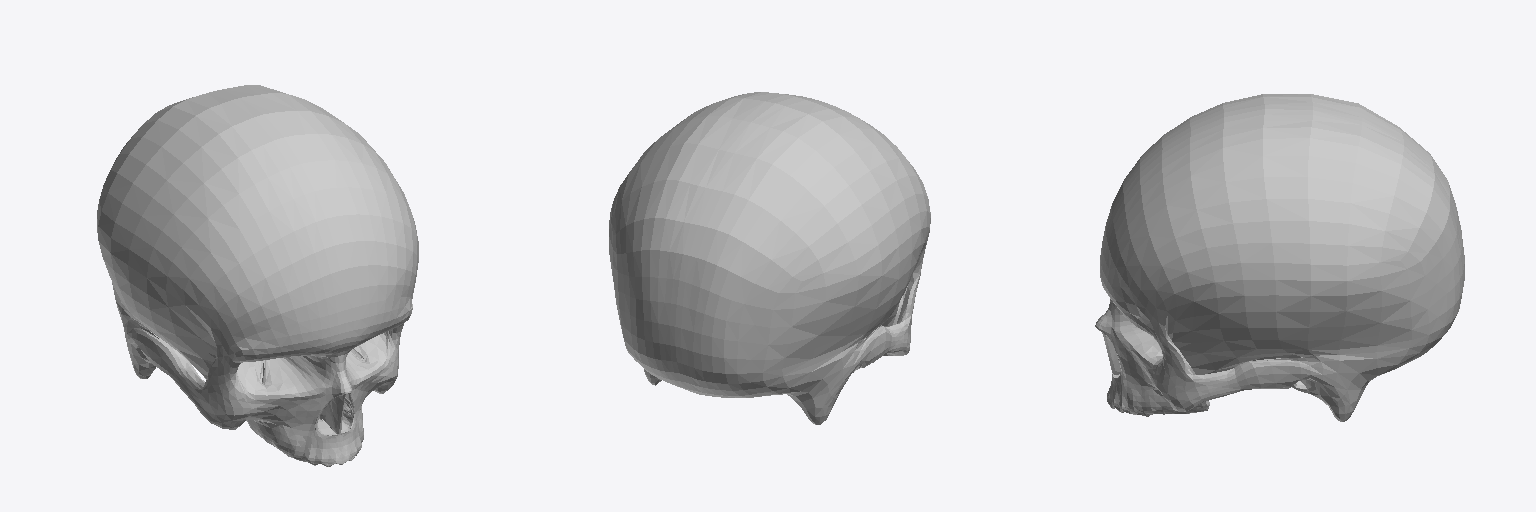
The model's file is Skull.obj.
3 views of the same model, side by side, from view 1: azimuth 30°, elevation 25°; view 2: azimuth 150°, elevation 25°; view 3: azimuth 270°, elevation 25° (orthographic).
Visible parts, largest first — view 1: Skull_Mesh group1; view 2: Skull_Mesh group1; view 3: Skull_Mesh group1.
Boxes of the visible parts, x1=… form: Skull_Mesh group1: x1=97, y1=85, x2=418, y2=466; Skull_Mesh group1: x1=609, y1=92, x2=930, y2=424; Skull_Mesh group1: x1=1095, y1=94, x2=1464, y2=421.
Bounding box in the file's own units: 1.85 × 2 × 2.28.